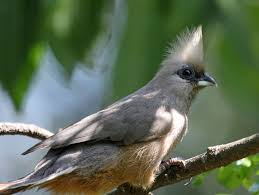target: (28, 27, 224, 194)
